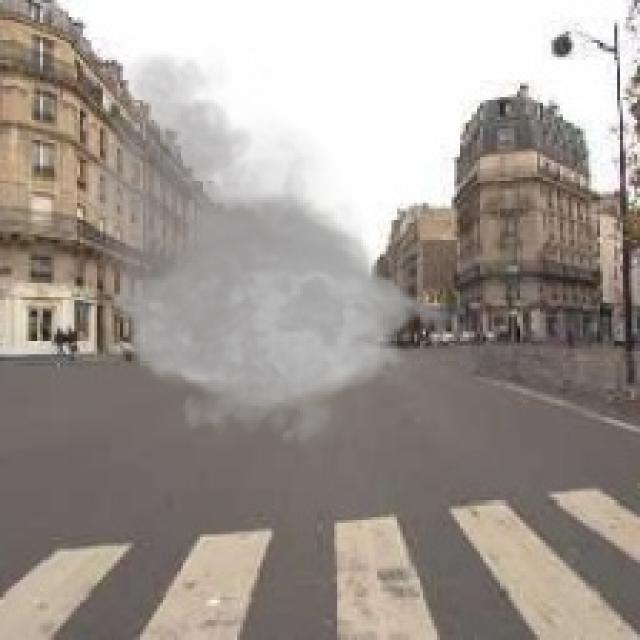smoke: (69, 46, 468, 457)
